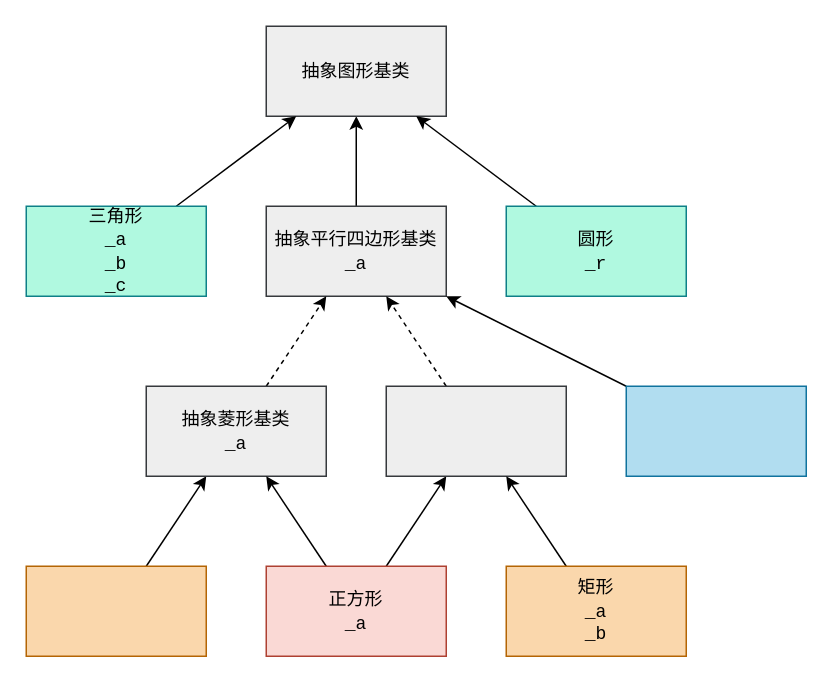
Image size: 833x683. Some labels were removed from this diagram. The centre of each missing label's shape, as x and y in pixels:
"平行四边形 _a _b _theta" belongs at pixel 715 430.
"抽象矩形基类 _a" belongs at pixel 475 430.
"菱形 _a _theta" belongs at pixel 115 610.
